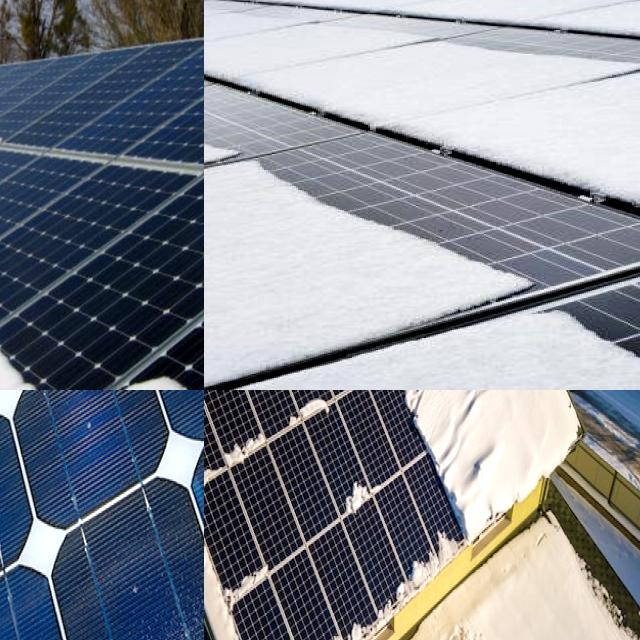crack: (0, 390, 204, 640)
panel: (347, 55, 520, 188), (207, 320, 470, 390), (418, 229, 590, 334), (504, 0, 640, 79), (535, 137, 640, 238), (204, 122, 311, 215), (212, 49, 334, 128), (294, 192, 443, 252), (540, 303, 640, 390), (358, 0, 511, 56), (0, 266, 68, 390), (414, 421, 481, 536), (0, 165, 53, 282), (0, 334, 84, 390), (0, 97, 51, 180), (270, 0, 377, 39), (210, 556, 280, 612), (381, 390, 443, 440), (399, 532, 469, 576), (374, 0, 542, 18), (222, 424, 272, 477), (0, 146, 30, 234), (334, 469, 382, 524), (0, 276, 34, 351), (281, 390, 334, 428), (284, 390, 360, 416), (204, 407, 224, 501), (447, 390, 522, 413), (0, 114, 34, 160), (204, 0, 274, 22), (471, 390, 526, 418), (0, 233, 22, 298), (359, 586, 398, 620), (0, 93, 29, 138), (328, 390, 385, 412), (431, 390, 500, 408), (0, 201, 22, 257), (204, 451, 232, 495), (0, 92, 28, 135), (0, 109, 24, 159), (386, 390, 441, 410), (204, 390, 245, 416), (222, 390, 278, 406)
